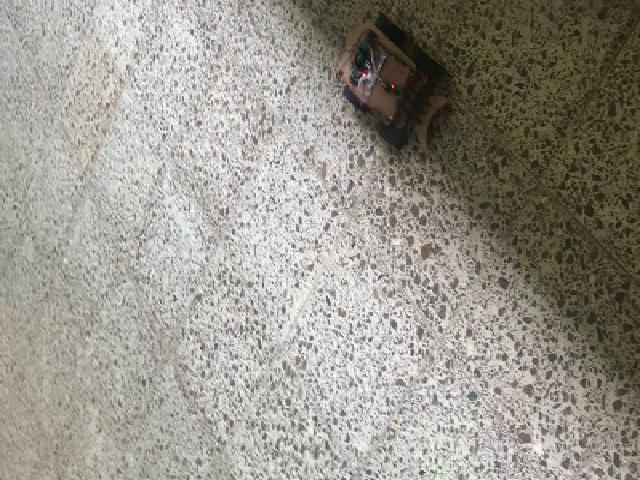Robot: (338, 10, 450, 149)
